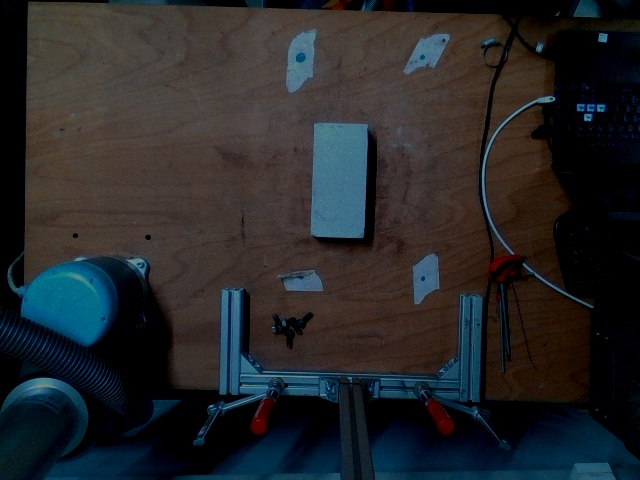brick: (312, 123, 368, 236)
